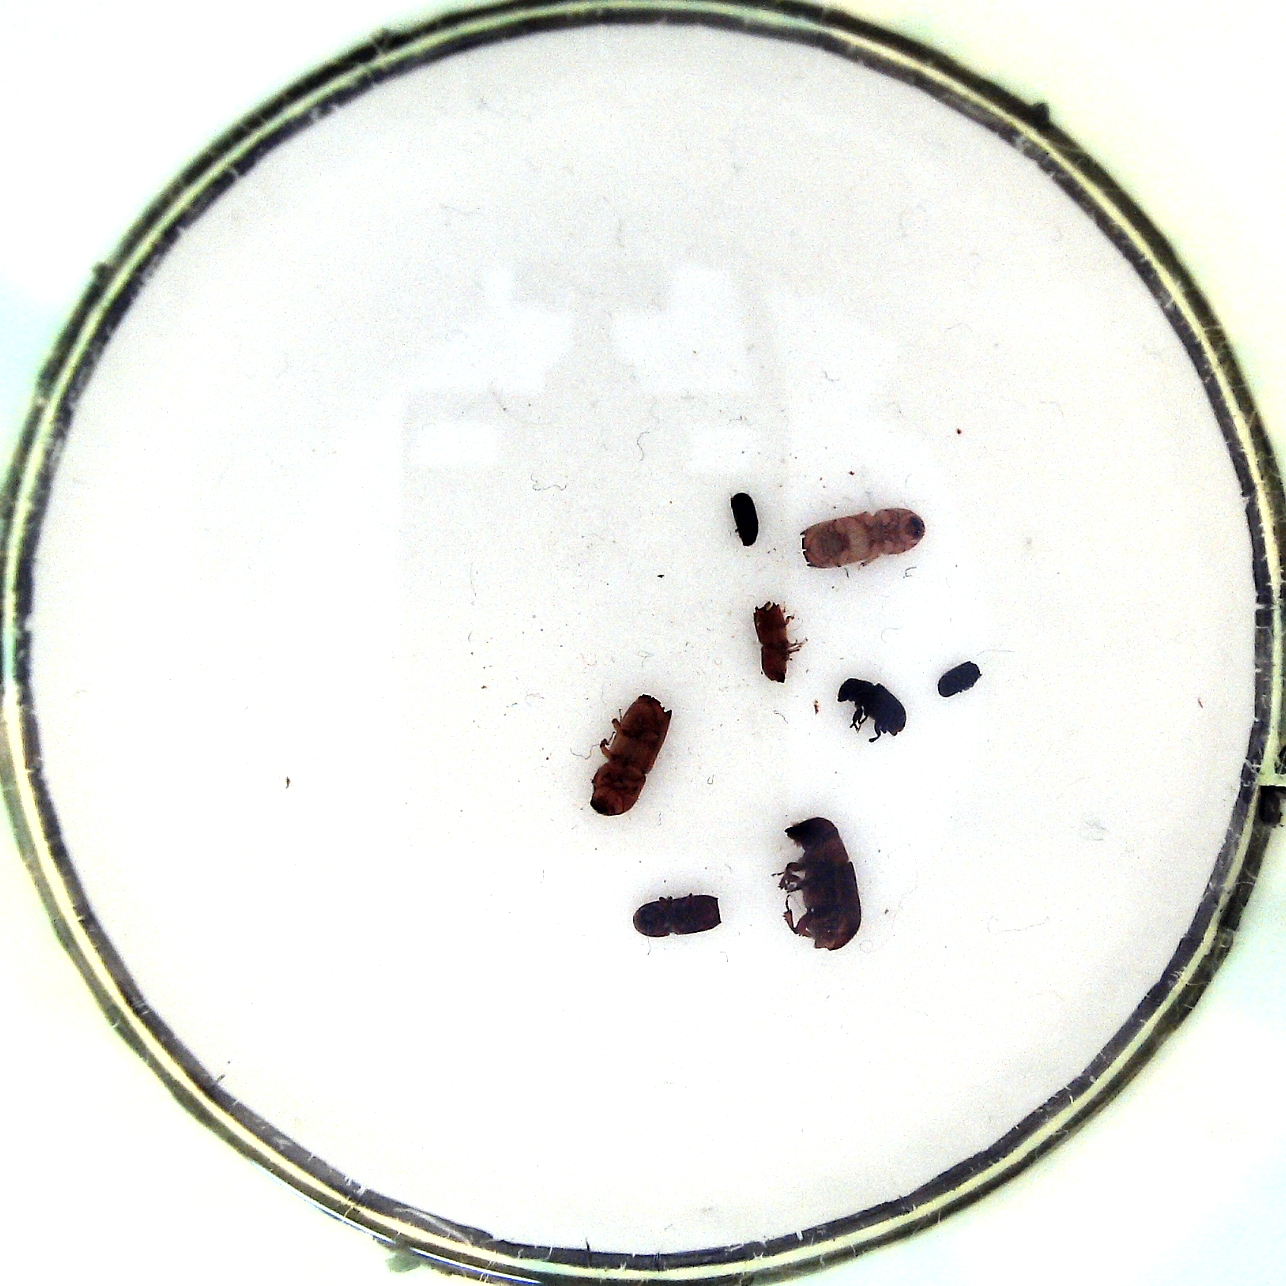Boerner: (586, 691, 677, 817), (798, 504, 930, 581)
Leconte: (773, 818, 862, 952)
Linnaeus: (628, 888, 730, 940)
acuminatus: (749, 596, 807, 689)
armandi: (835, 672, 908, 750)
coleoptera: (725, 488, 764, 555), (936, 657, 985, 698)
